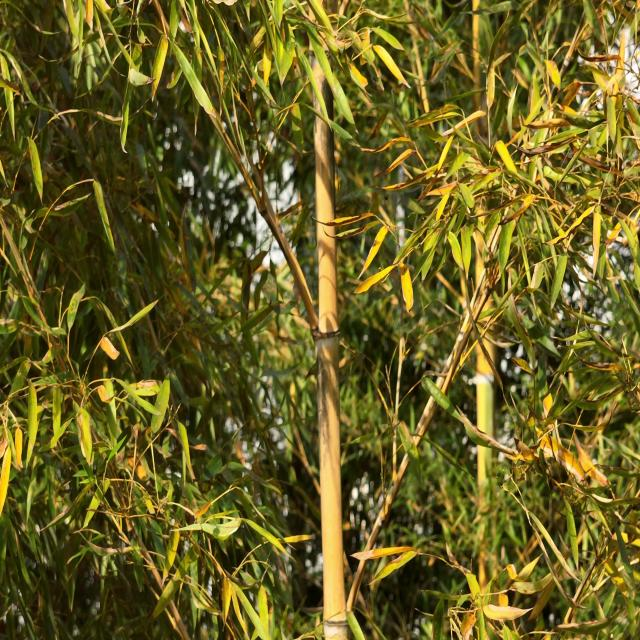Bamboo-shoots: (310, 0, 346, 640)
